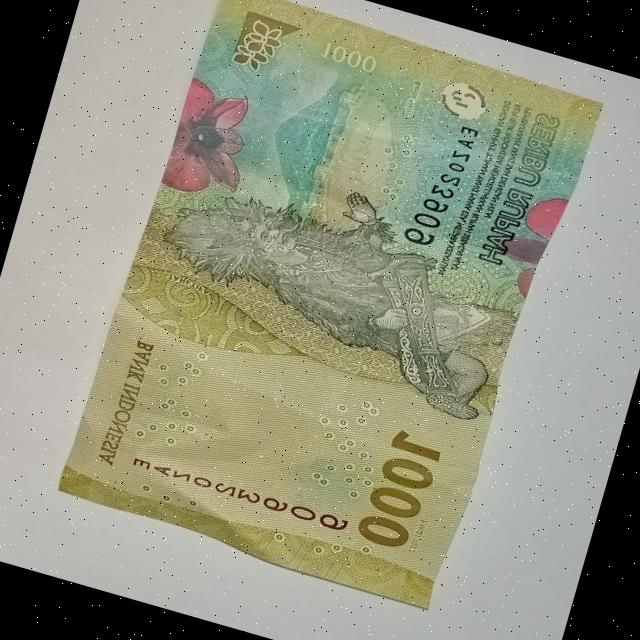1K: (43, 0, 616, 638)
